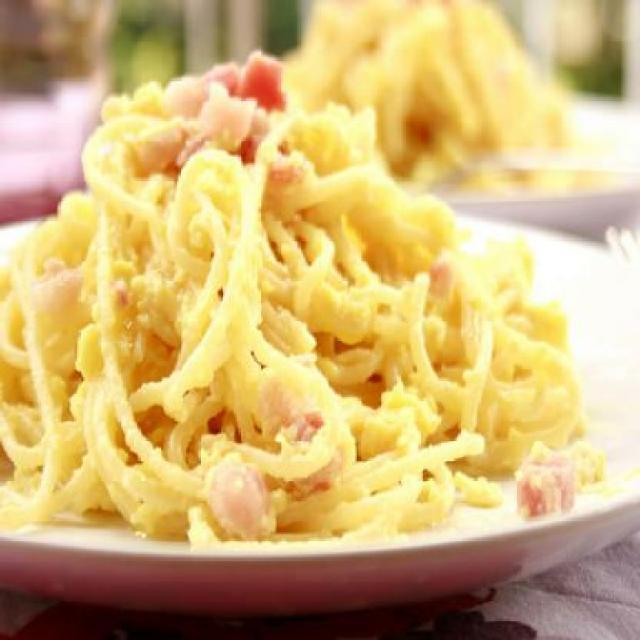Pasta with carbonara sauce: (12, 37, 590, 548)
